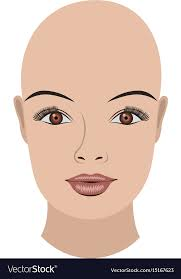e.brown: (48, 113, 64, 125)
